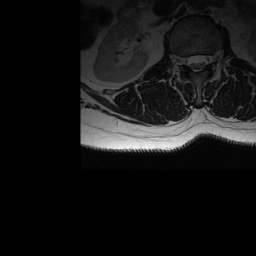CCS_normal: (194, 48, 201, 77)
LFS_normal: (208, 49, 216, 69)
LLS_normal: (201, 49, 208, 72)
RFS_normal: (179, 51, 187, 69)
RLS_normal: (187, 50, 193, 73)
